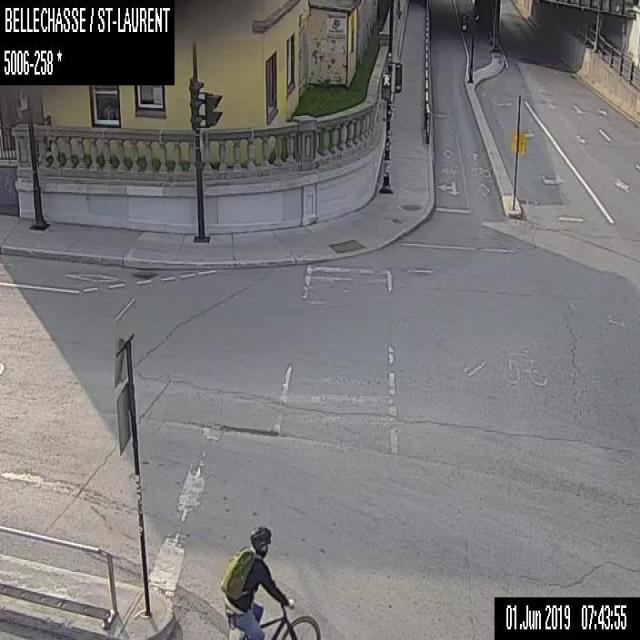cyclist: (217, 525, 320, 639)
